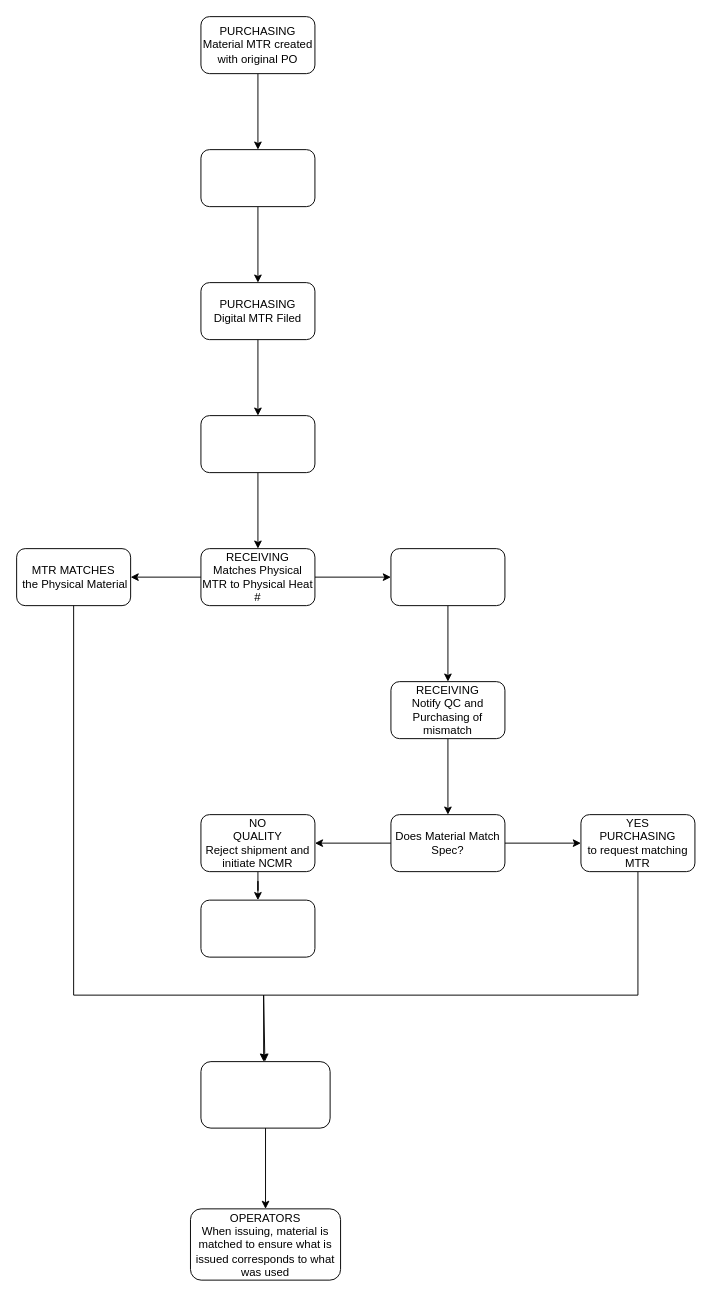
Image size: 712x1297. Some labels were removed from this diagram. The shapes that lost their labels are listed below. From the top down, each one's box as (x1, y1, x2, y2) in pixels, then its label:
(200, 149, 315, 207): PURCHASING Digital MTR Received
(200, 415, 315, 473): RECEIVING Material Arrives (With MTR)
(390, 548, 505, 606): MTR DOES NOT Match the physical material
(200, 899, 315, 957): Initiate Return Process
(200, 1061, 330, 1128): RECEIVING Receives in the physical material with the Heat number entered in GSS
